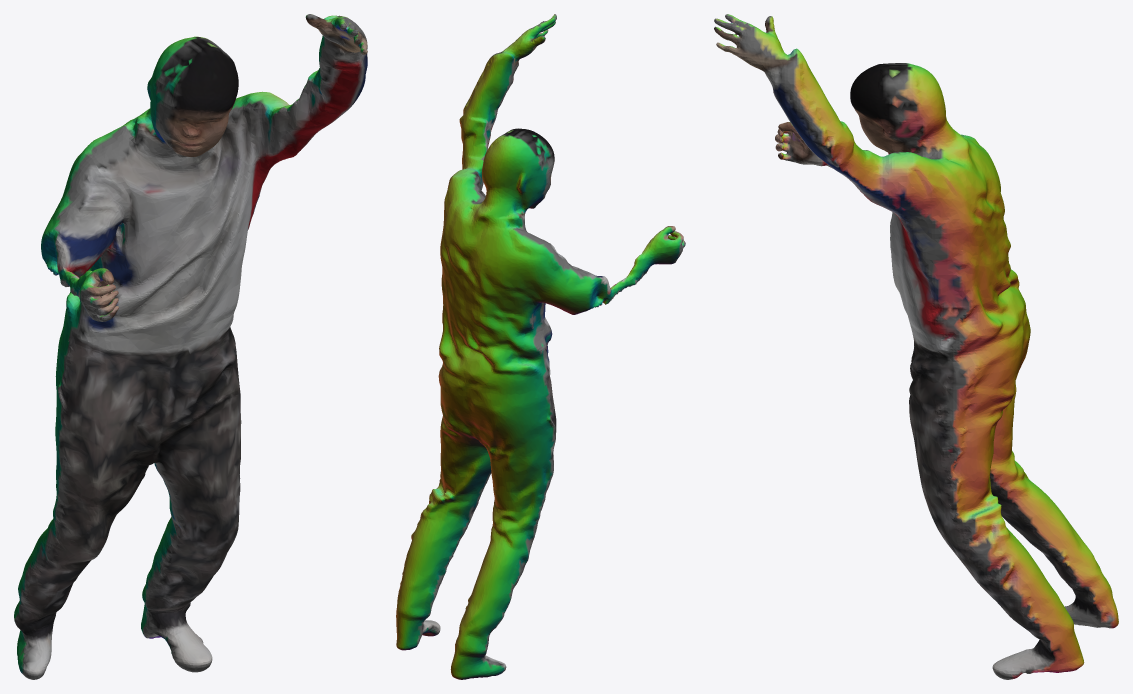
The model's file is demo_image_0_full.obj.
3 views of the same model, side by side, from view 1: azimuth 30°, elevation 25°; view 2: azimuth 150°, elevation 25°; view 3: azimuth 270°, elevation 25° (orthographic). The views are drawn at different scales.
Bounding box in the file's own units: 0.7489 × 1.86 × 1.04.
